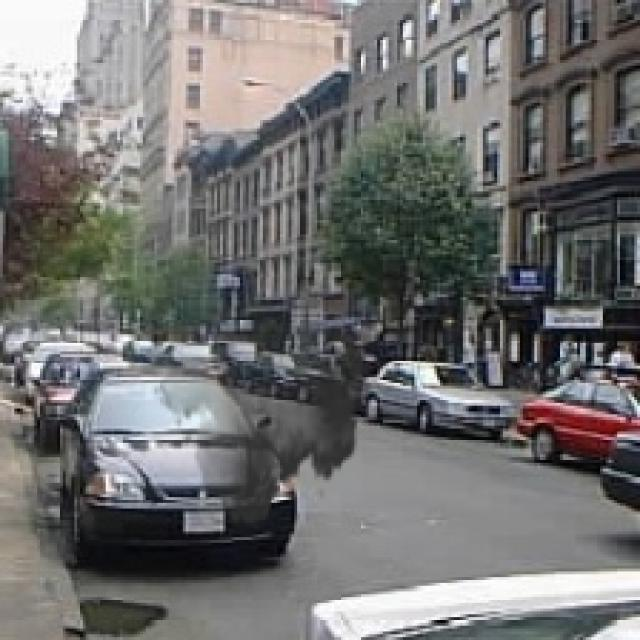Smoke: (152, 257, 378, 537)
